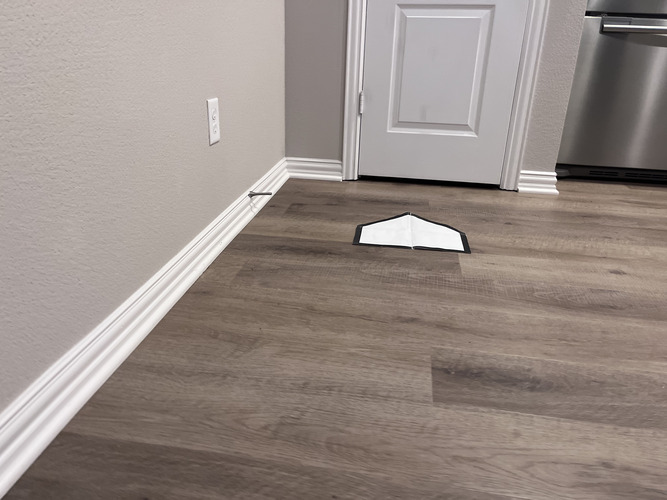homeplate: (351, 211, 471, 255)
